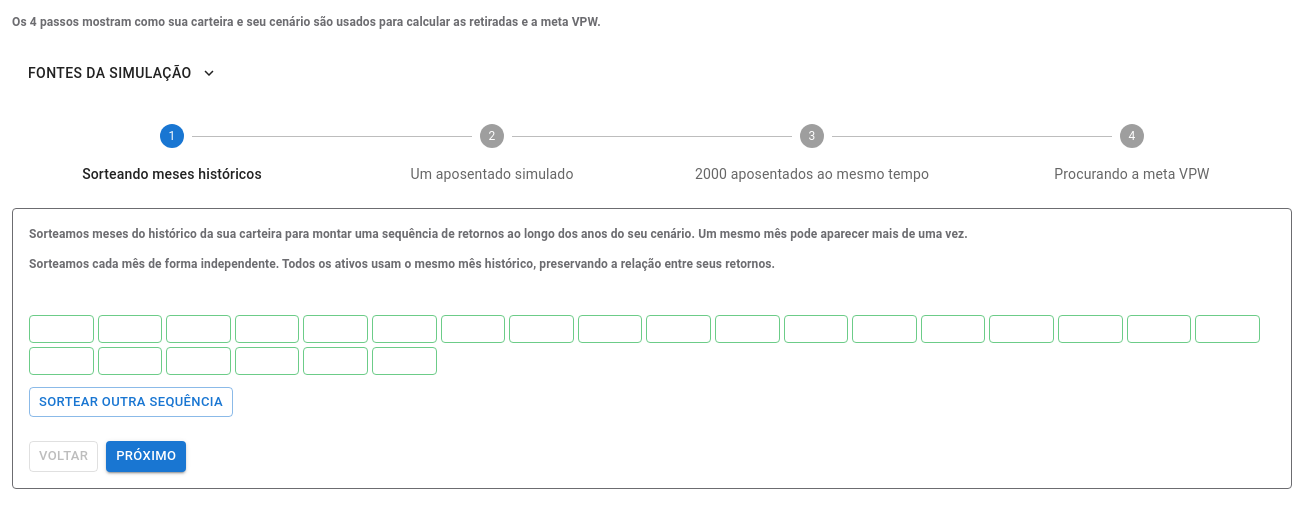
reports simulation failure without presenting stale example results
Click the button "3 2000 aposentados ao mesmo tempo" at [812, 174], box left=695, top=124, right=929, bottom=182
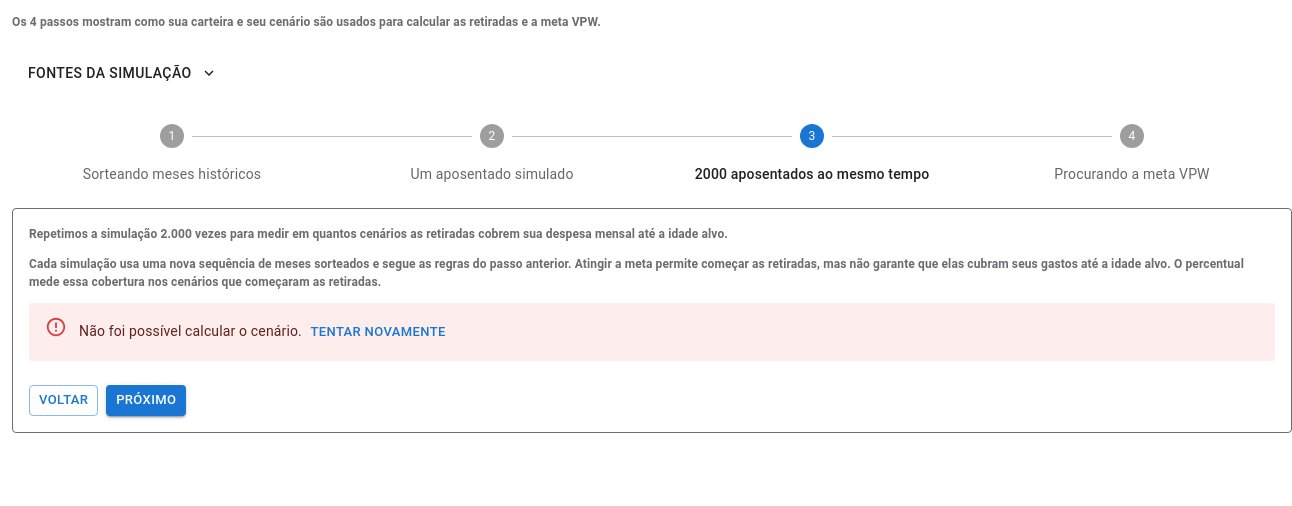
Result: the message shows "Não foi possível calcular o cenário" at left=79, top=323, right=302, bottom=339
